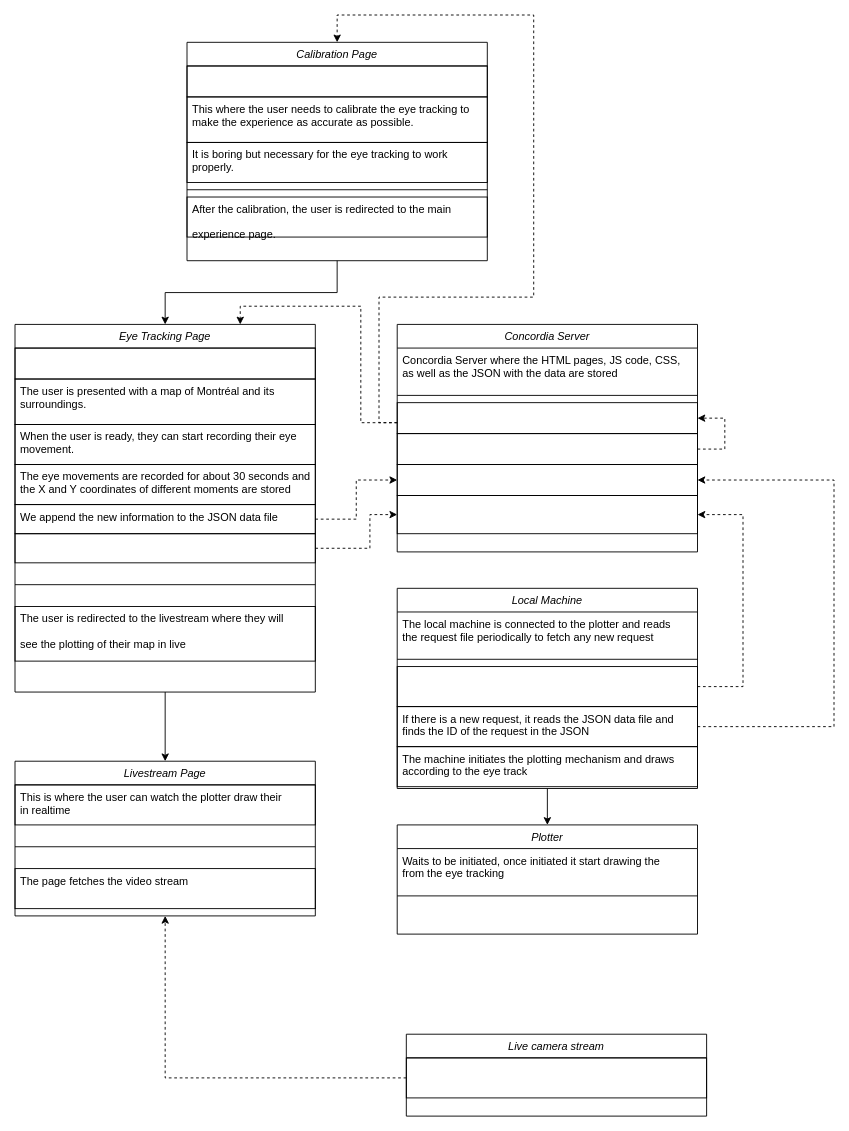
This 849x1131 diagram has some shape labels left out. The centre of each missing label's shape, as x and y in pixels:
"A camera that is recording in real time the plotter" goes at point 556,1077.
"CSS and JS" goes at point 547,449.
"Data -> JSON file with entry of the eye recording" goes at point 547,479.
"HTML Pages" goes at point 547,418.
"Reads the request file every 5 seconds and check if there is a new request" goes at point 547,686.
"Request -> File with ID of request to be processed by the plotter" goes at point 547,514.
"This is the entry point of the website." goes at point 336,81.
"This is the main user experience point." goes at point 164,363.
"We enter the new request in the request file" goes at point 164,548.
